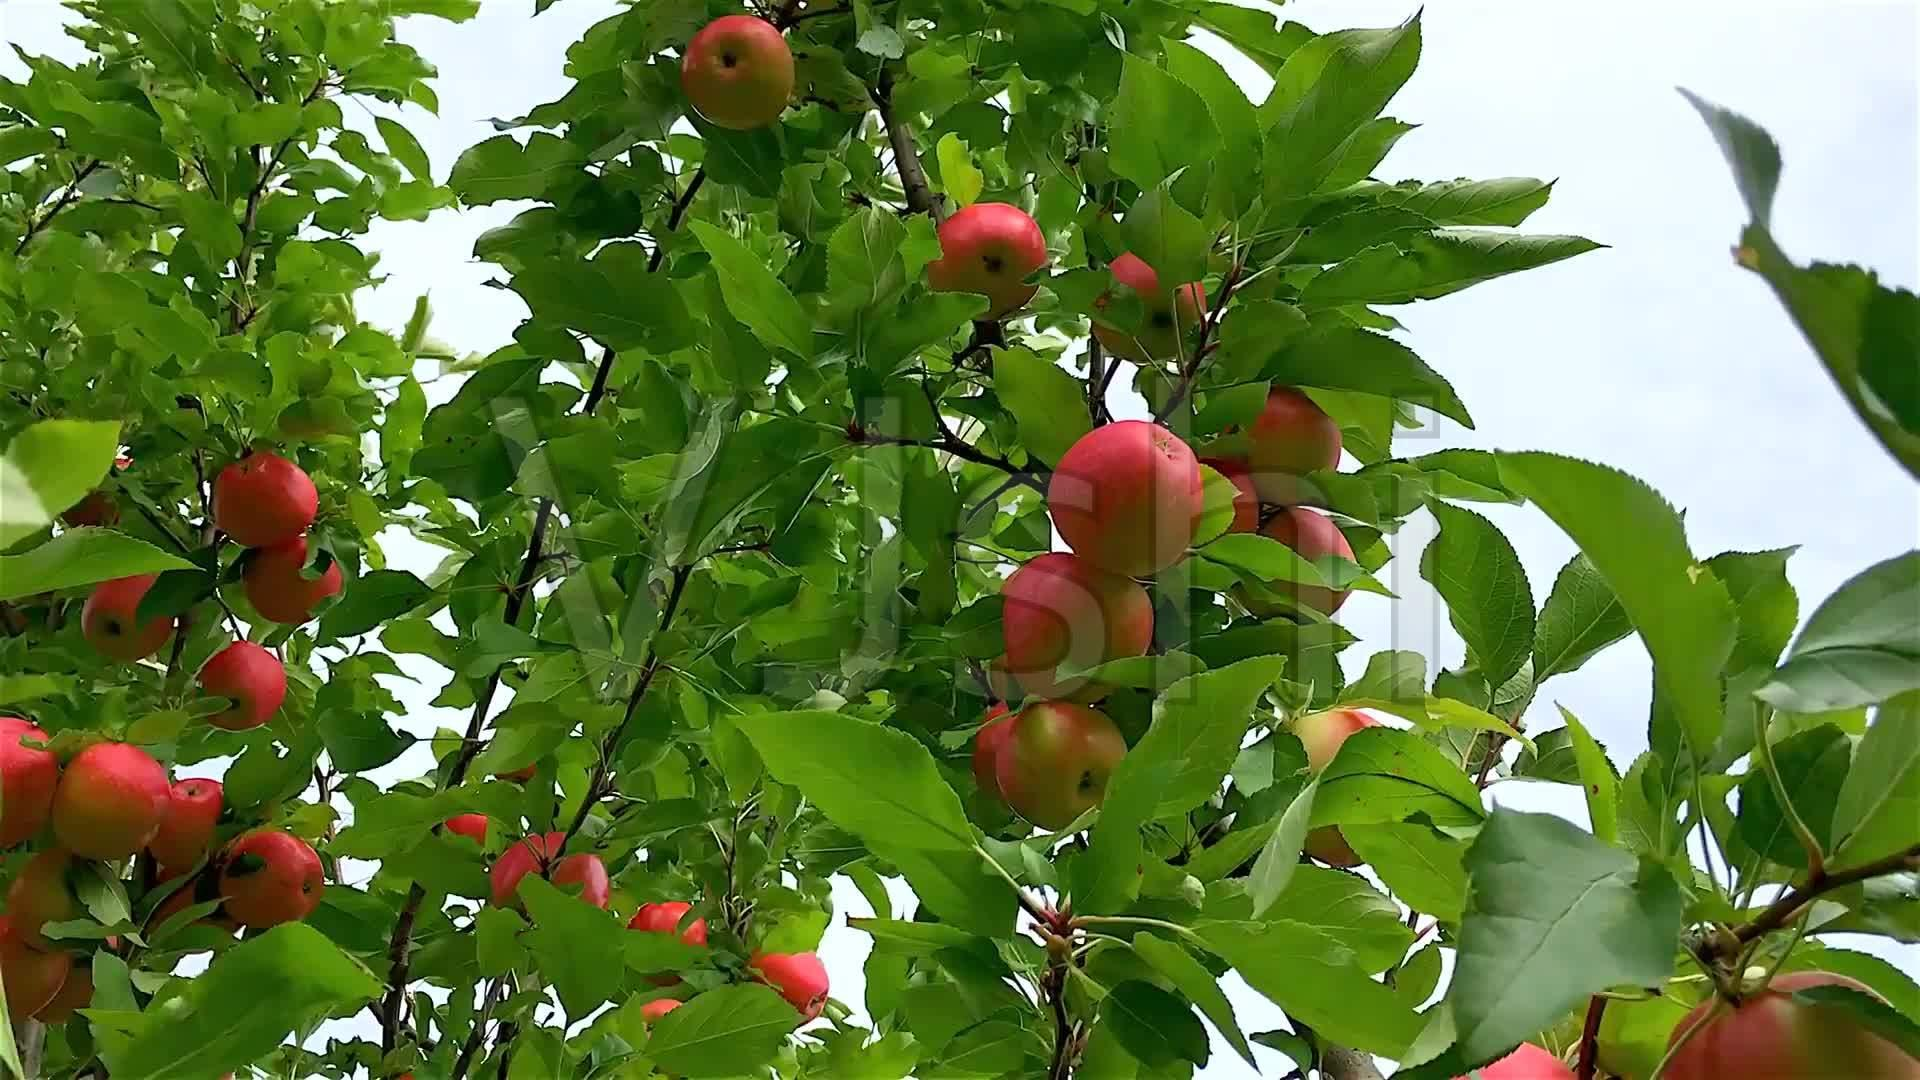apple: (1633, 971, 1911, 1080), (1046, 418, 1205, 568), (1004, 556, 1153, 675), (997, 699, 1131, 827), (926, 204, 1048, 324), (53, 742, 171, 864), (679, 16, 795, 131), (210, 829, 327, 932), (1109, 255, 1211, 368), (211, 455, 320, 547), (240, 530, 343, 626), (489, 832, 612, 913), (1240, 388, 1338, 479), (84, 576, 175, 667), (196, 641, 287, 731), (754, 953, 831, 1021)
